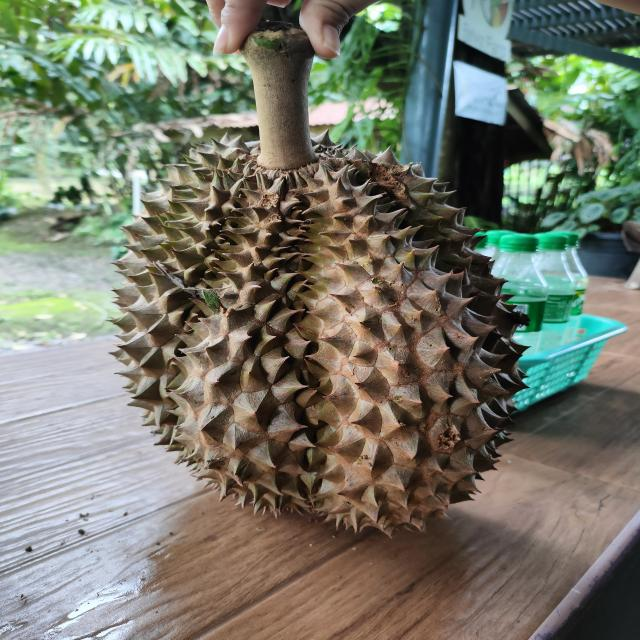mature: (115, 135, 525, 534)
